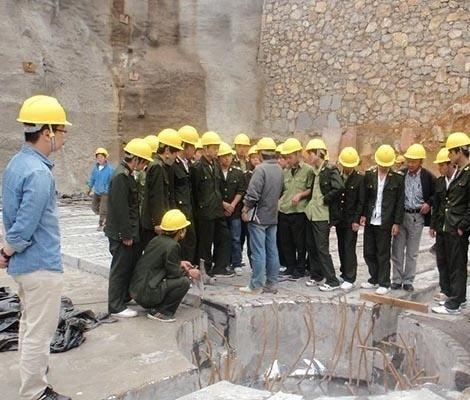Helmet: (20, 95, 73, 153)
NoVest: (2, 147, 65, 276)
